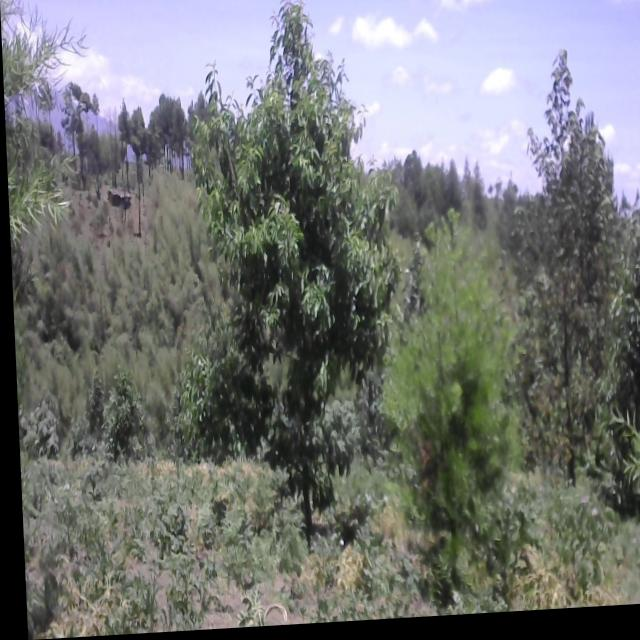Hass Avocado: (188, 0, 398, 572)
Podocarpus falcatus: (0, 0, 99, 237)
cedrus: (368, 224, 521, 623), (123, 107, 145, 176), (113, 101, 130, 185), (140, 114, 162, 177)
other: (504, 47, 627, 471)
